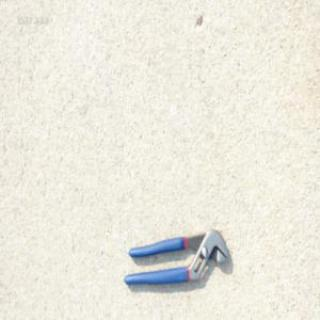Pliertrack_idkeyframe: (122, 226, 230, 285)
